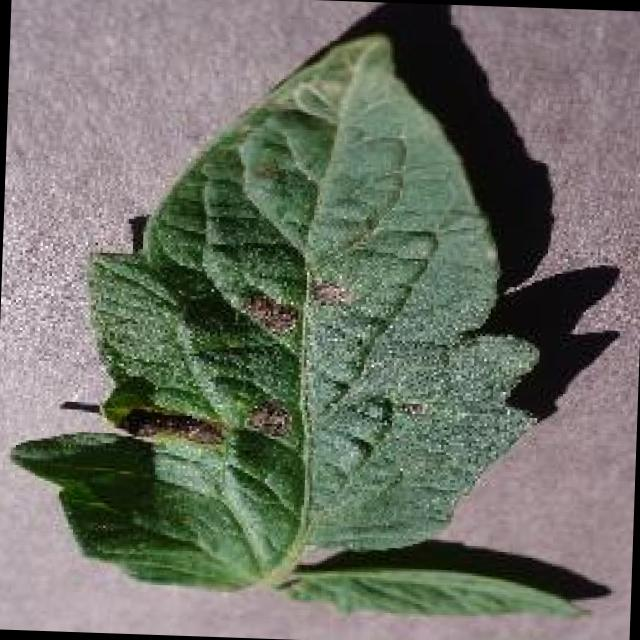Tomato_Early_Blight: (100, 265, 362, 484)
